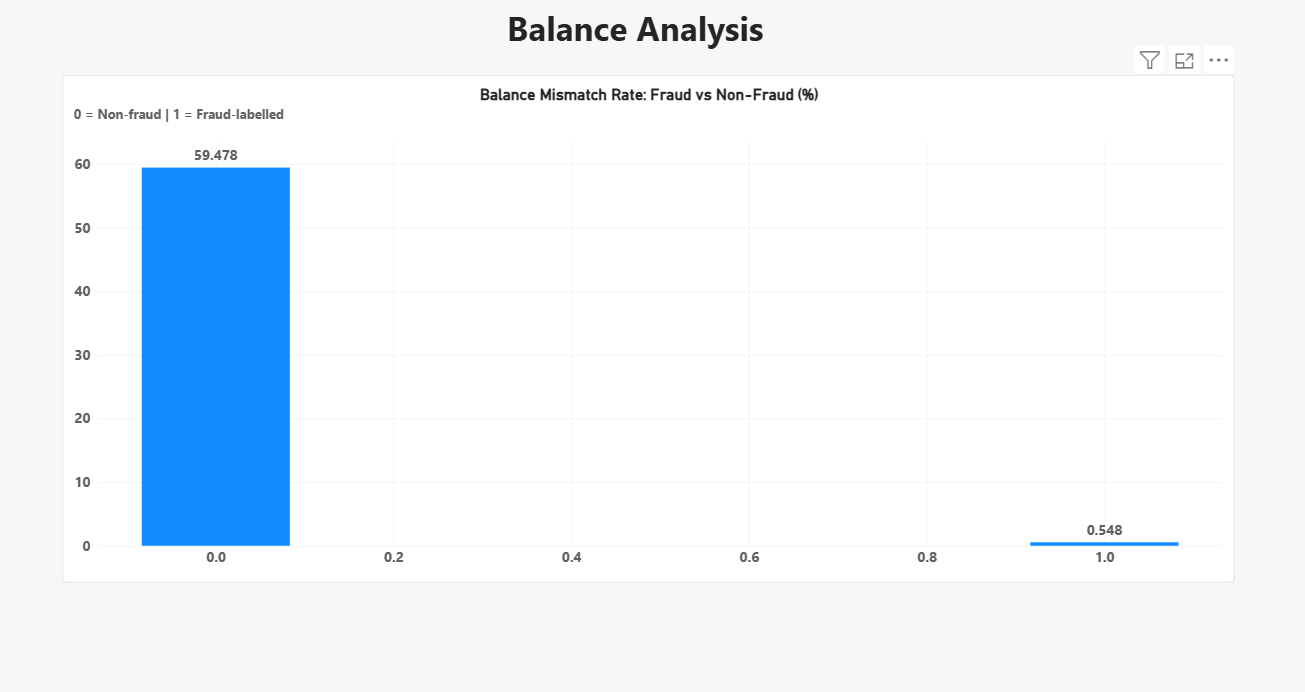

What the dashboard file says about the page in this screenshot:
{"tool":"powerbi","page":{"name":"Balance Analysis:","canvas":[1920,1080],"ordinal":1},"visuals":[{"type":"clusteredColumnChart","title":"Balance Mismatch Rate: Fraud vs Non-Fraud (%)","fields":{"Category":["balance_analysis.isFraud"],"Y":["Sum(balance_analysis.mismatch_rate_pct)"]},"box":[110.4,137.5,1697.5,734.7],"z":0},{"type":"textbox","box":[671.4,36.2,537.5,79.6],"z":1}]}

Visuals, with their boxes in screenshot pixels (x1, y1, x2, y2):
"Balance Mismatch Rate: Fraud vs Non-Fraud (%)" clusteredColumnChart: Rect(139, 94, 1175, 543)
textbox: Rect(481, 32, 810, 81)
